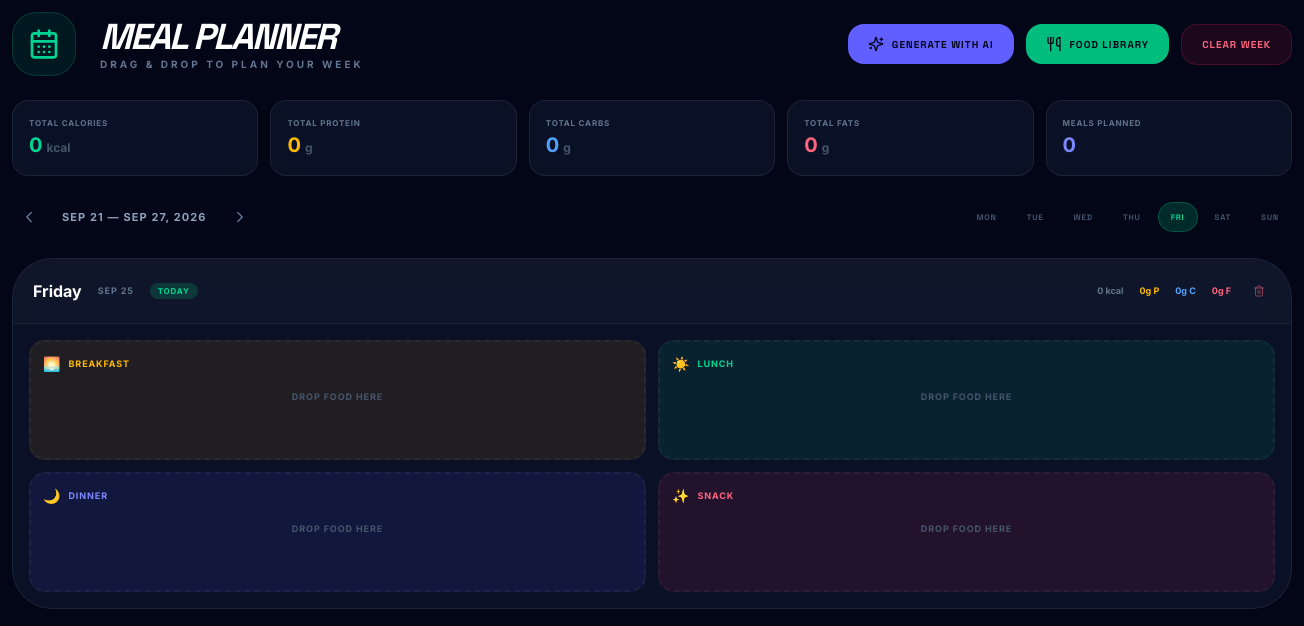
MealPlanner › generates a weekly meal plan from backend AI output
Click the button "Generate with AI" at (931, 44), box [848,24,1014,64]
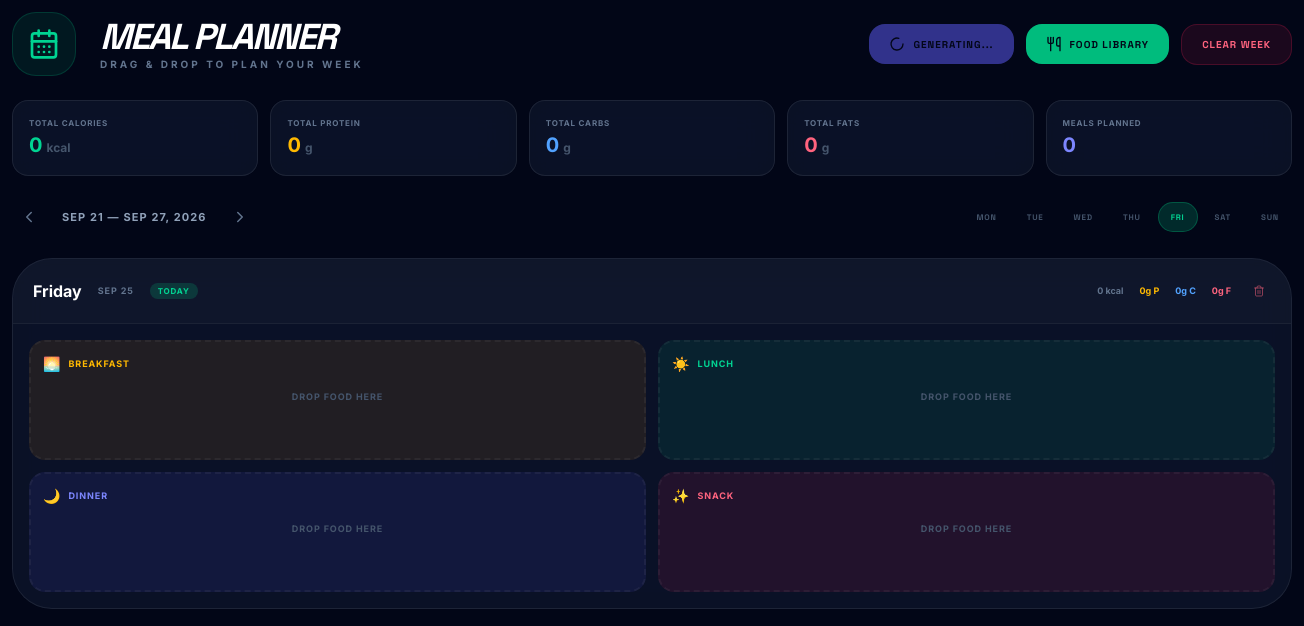
Click the button "Mon" at (986, 217), box [963,202,1010,232]
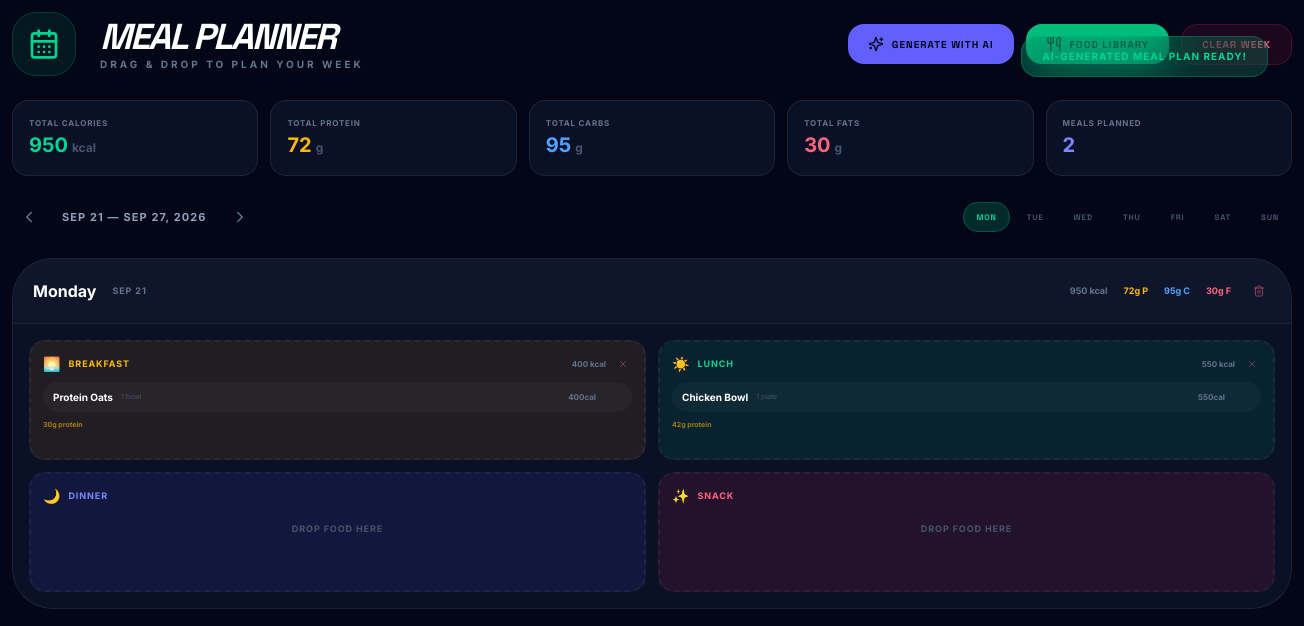
Expected: the text "Protein Oats" is shown, [53,390,113,404]
Expected: the text "950 kcal" is shown, [1070,284,1108,298]
